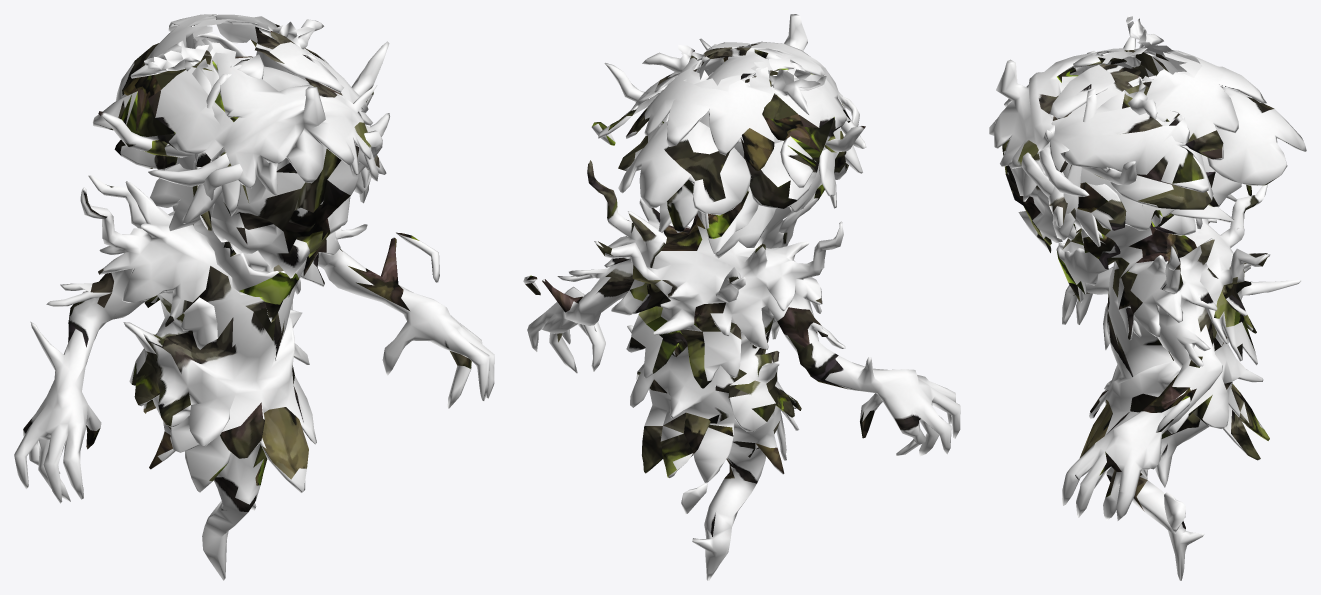
Rendered from wither_sprite_basic_10k.fbx.
3 views of the same model, side by side, from view 1: azimuth 30°, elevation 25°; view 2: azimuth 150°, elevation 25°; view 3: azimuth 270°, elevation 25° (orthographic). The views are drawn at different scales.
Visible parts, largest first — view 1: wither_sprite_basic_decimated; view 2: wither_sprite_basic_decimated; view 3: wither_sprite_basic_decimated.
Boxes of the visible parts, x1,y1,x2,y2 form: wither_sprite_basic_decimated: (14, 14, 494, 580); wither_sprite_basic_decimated: (523, 14, 960, 580); wither_sprite_basic_decimated: (989, 14, 1306, 580).
Size of the model in its own units: 1.43 by 1.67 by 0.9149.
